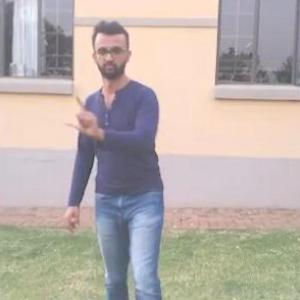land_hand: (58, 88, 107, 139)
